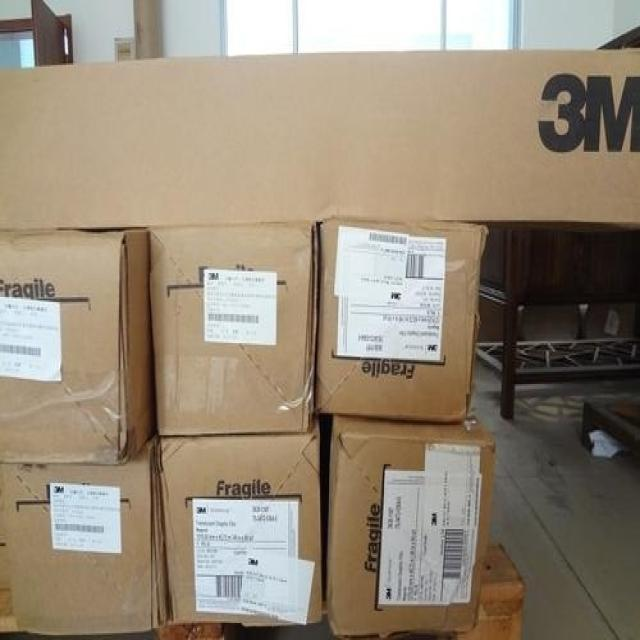box: (0, 48, 640, 230), (325, 406, 495, 635), (0, 229, 155, 468), (150, 220, 317, 437), (157, 416, 323, 628), (316, 222, 489, 423), (3, 439, 168, 637), (456, 541, 524, 640)
